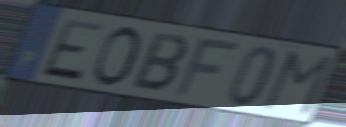0: (226, 44, 278, 109)
B: (129, 30, 193, 95)
E: (38, 17, 108, 84)
F: (171, 37, 244, 100)
M: (258, 49, 337, 119)
O: (89, 24, 144, 89)
